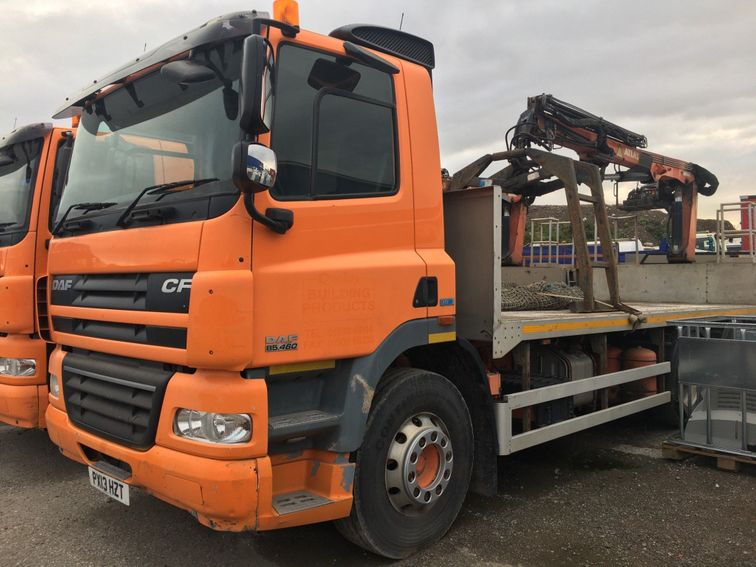Semi: (45, 0, 755, 560)
